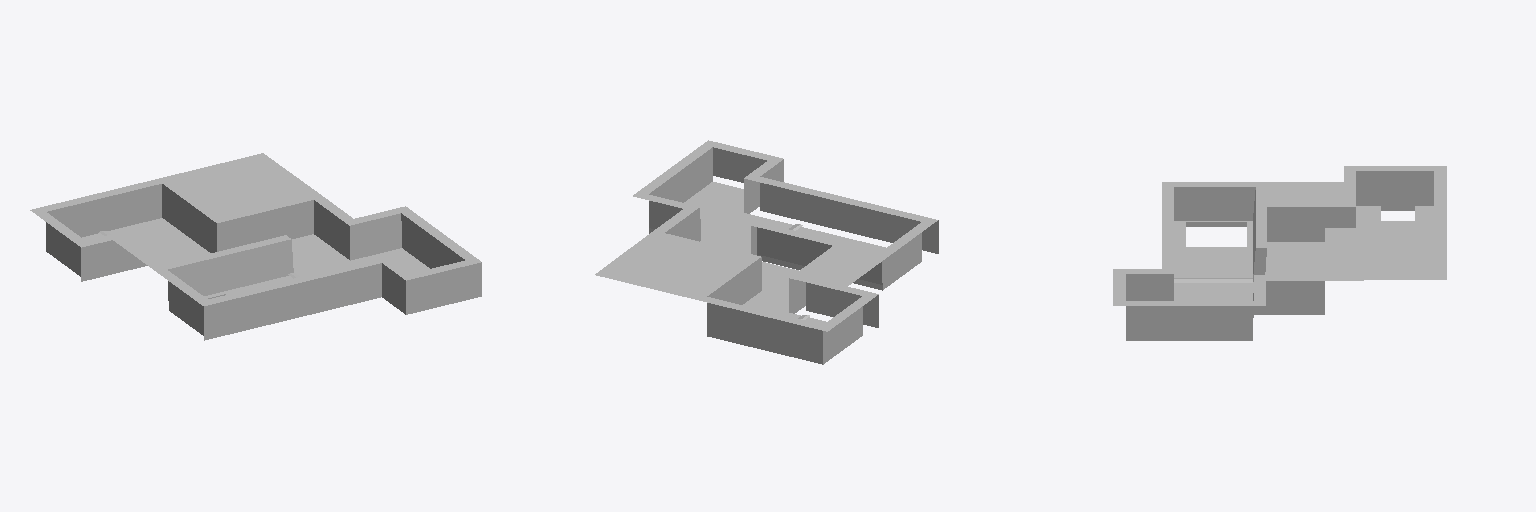
The picture shows the model from 3 angles: view 1: azimuth 30°, elevation 25°; view 2: azimuth 150°, elevation 25°; view 3: azimuth 270°, elevation 25°; orthographic projection.
Visible parts, largest first — view 1: polygon4, polygon2, polygon0, polygon1, polygon3; view 2: polygon4, polygon2, polygon0, polygon1, polygon3; view 3: polygon2, polygon4, polygon0, polygon1.
Boxes of the visible parts, box(x1,y1,x2,y2) form: polygon4: box(81, 153, 481, 340); polygon2: box(46, 184, 464, 335); polygon0: box(30, 177, 480, 305); polygon1: box(47, 184, 407, 277); polygon3: box(360, 213, 401, 257); polygon4: box(595, 147, 938, 327); polygon2: box(655, 147, 921, 364); polygon0: box(633, 140, 937, 331); polygon1: box(649, 179, 882, 364); polygon3: box(649, 201, 682, 233); polygon2: box(1126, 171, 1433, 340); polygon4: box(1174, 182, 1446, 300); polygon0: box(1113, 166, 1446, 305); polygon1: box(1162, 190, 1355, 340).
Bounding box in the file's own units: 13.62 × 1.81 × 13.75.